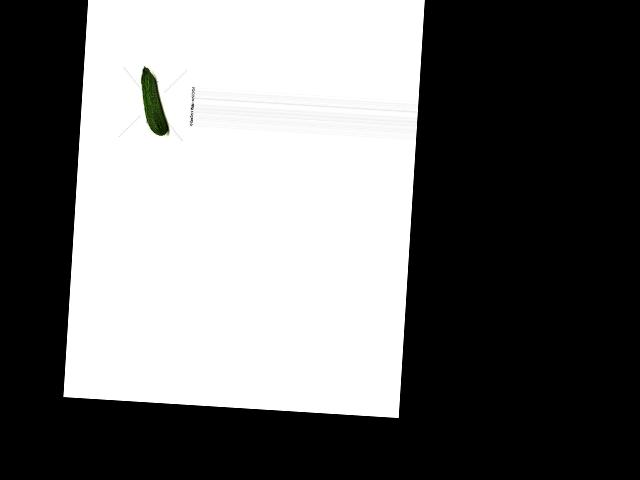cucumber: (138, 65, 171, 135)
